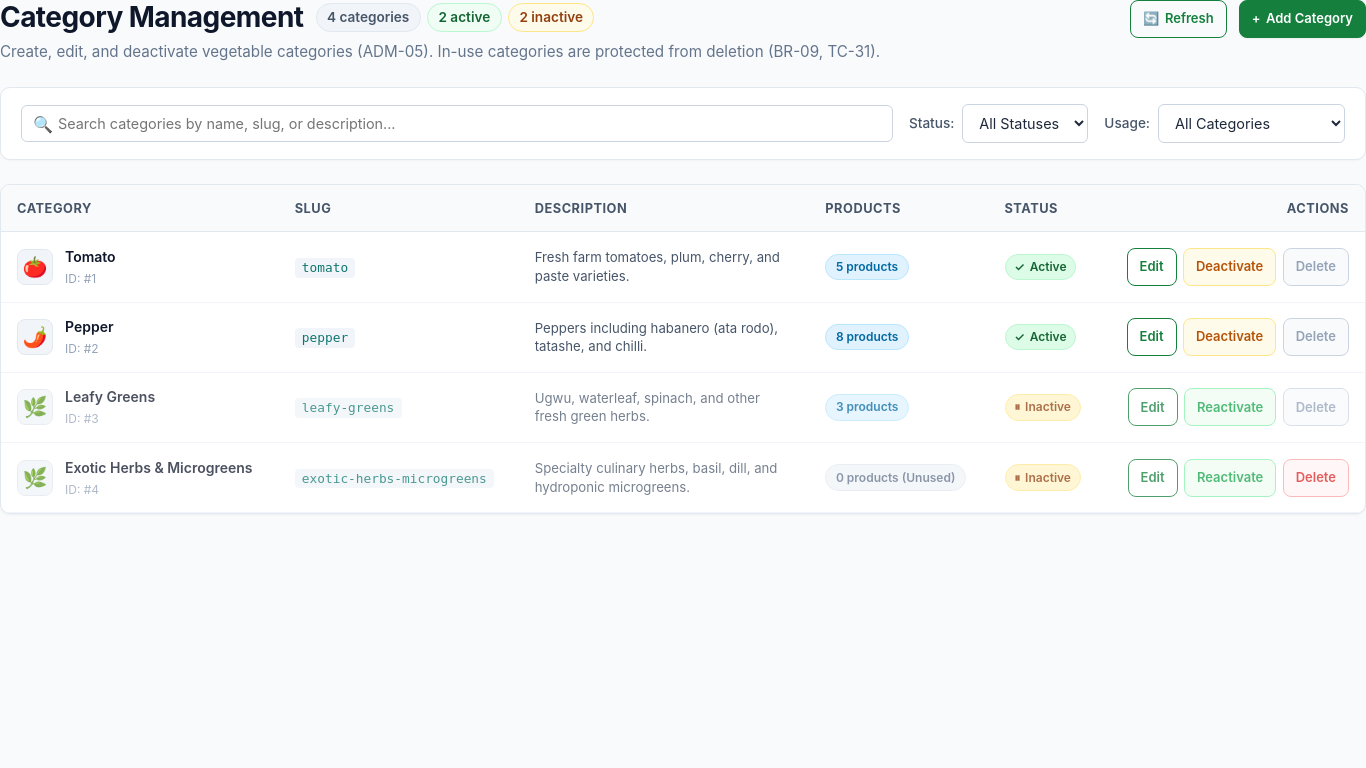
Test: FE-100 / ADM-05: Admin Categories Management Page › 3. Create Category (ADM-05) › validates required name field and prevents submitting blank name
What coordinates should you click on to do the following:
click the button with test id "add-category-btn"
I would click on:
 (1302, 19)
Its box is [1239,0,1365,38].
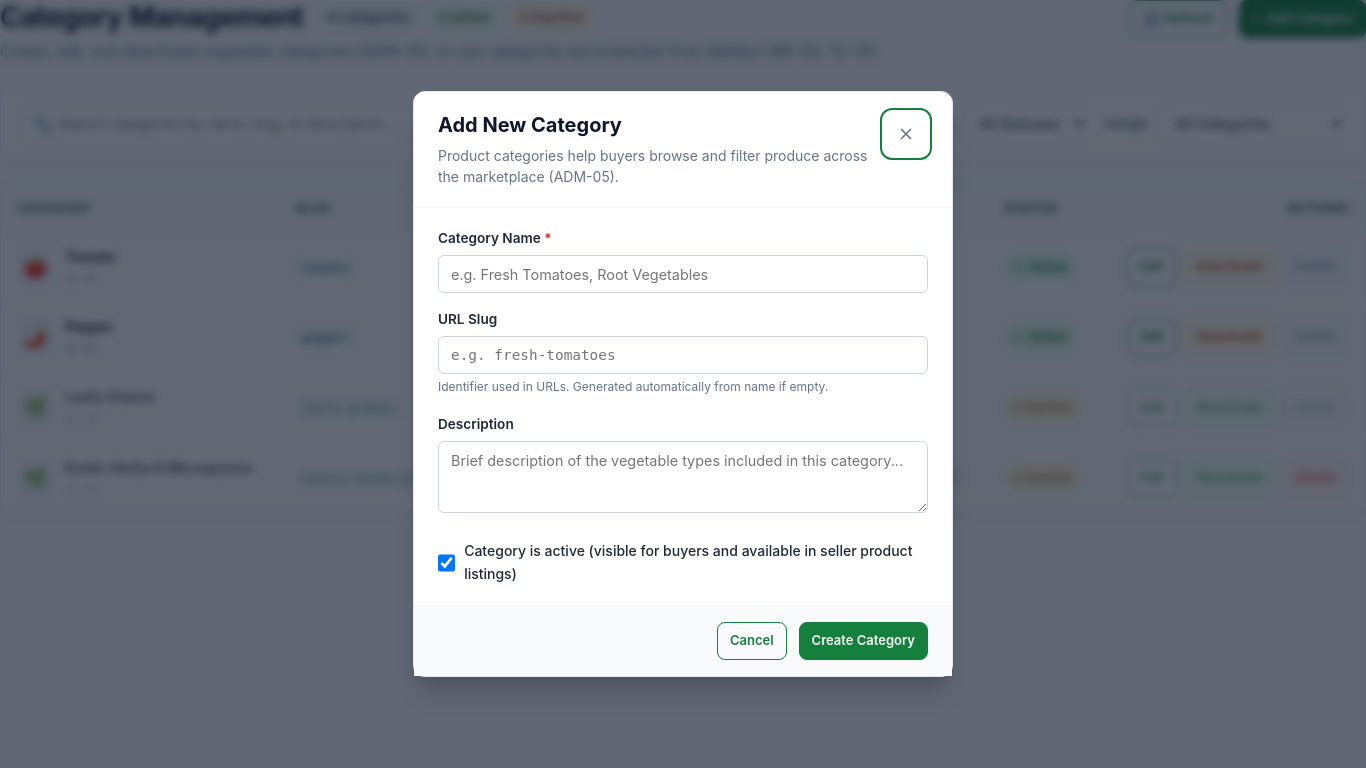
Check: the dialog with test id "category-modal" is shown, box [413,91,953,677]
Click save with empty name
What coordinates should you click on to do the following:
click the button with test id "category-modal-save-btn"
I would click on:
 (863, 641)
Its box is [799,622,928,660].
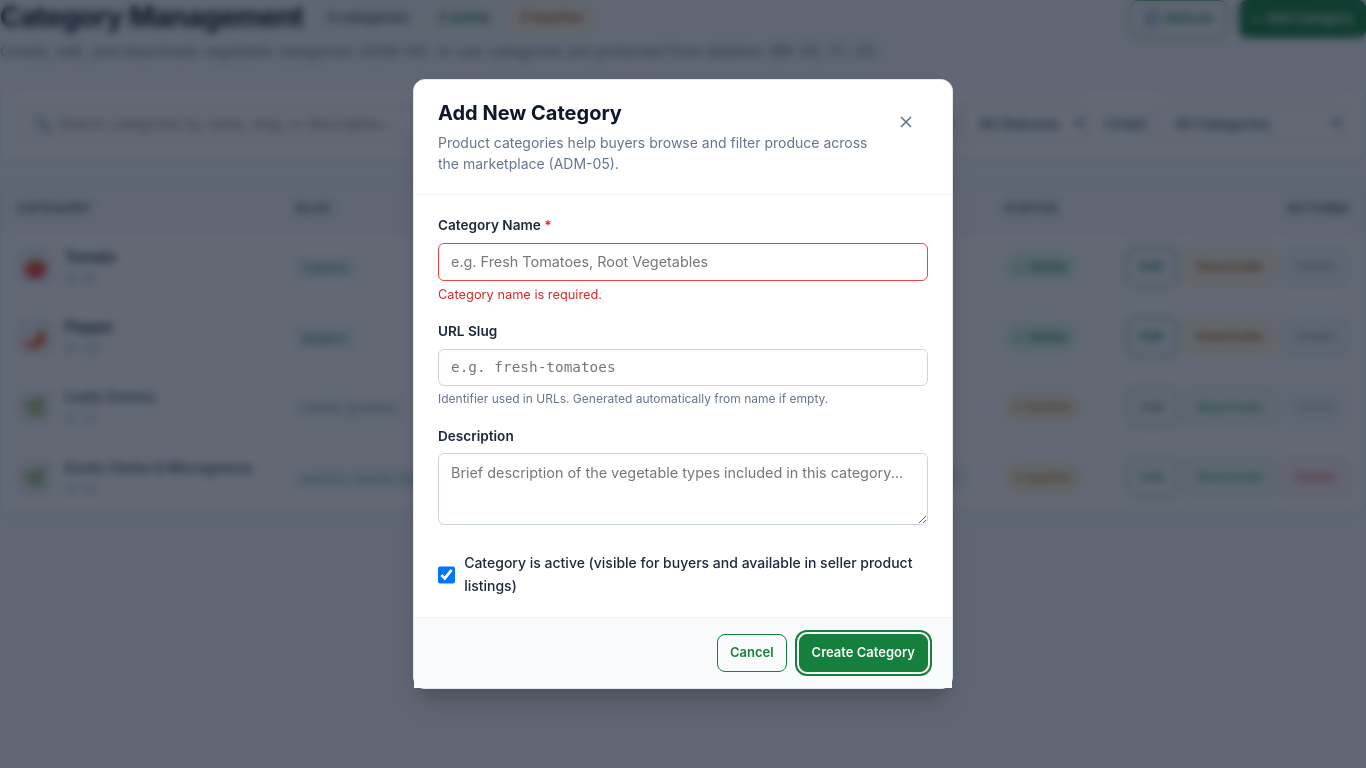
Check: the text with test id "category-name-error" shows "Category name is required", box [438,287,602,302]
